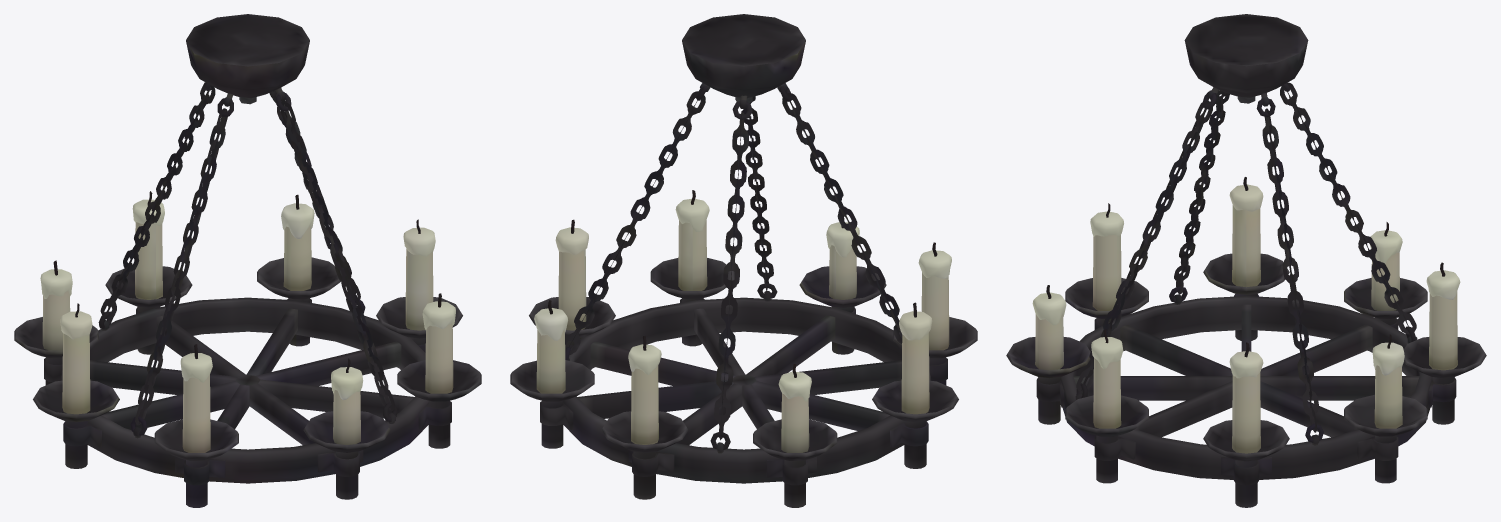
3 views of the same model, side by side, from view 1: azimuth 30°, elevation 25°; view 2: azimuth 150°, elevation 25°; view 3: azimuth 270°, elevation 25° (orthographic).
Bounding box in the file's own units: 15.71 × 13.7 × 15.71.
Materials: 1 (1 with a texture image).
